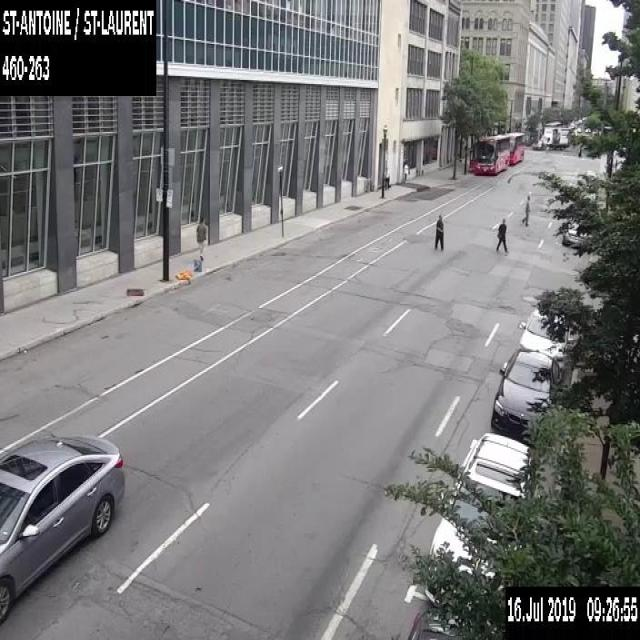bus: (468, 135, 509, 176), (496, 131, 524, 164)
construction: (174, 258, 202, 279)
pedestrian: (194, 214, 206, 260), (495, 216, 509, 252), (434, 213, 443, 252), (521, 194, 530, 225), (384, 168, 389, 191), (403, 160, 408, 183)
vehicle: (0, 430, 126, 628), (424, 430, 540, 606), (490, 348, 564, 446), (517, 306, 578, 373), (407, 607, 471, 639), (538, 126, 570, 149)
